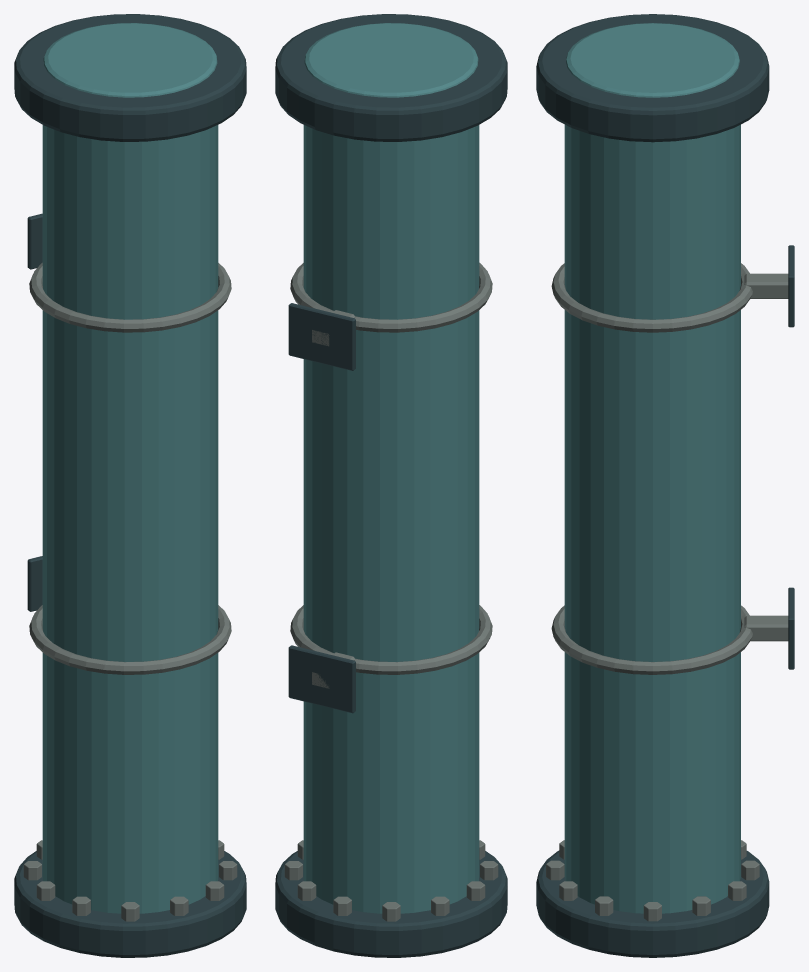
The model's file is pipe-riser.glb.
The picture shows the model from 3 angles, left to right: view 1: azimuth 30°, elevation 25°; view 2: azimuth 150°, elevation 25°; view 3: azimuth 270°, elevation 25°; orthographic projection.
Parts seen in each view (by area): view 1: pipe-riser__pipe-riser__petrol, pipe-riser__pipe-riser__steel, pipe-riser__pipe-riser__hardware; view 2: pipe-riser__pipe-riser__petrol, pipe-riser__pipe-riser__steel, pipe-riser__pipe-riser__hardware; view 3: pipe-riser__pipe-riser__petrol, pipe-riser__pipe-riser__steel, pipe-riser__pipe-riser__hardware.
Part boxes in pixels (x1,y1,x2,y2): pipe-riser__pipe-riser__petrol: [42, 23, 218, 913]; pipe-riser__pipe-riser__steel: [14, 14, 246, 957]; pipe-riser__pipe-riser__hardware: [23, 262, 237, 921]; pipe-riser__pipe-riser__petrol: [303, 23, 479, 913]; pipe-riser__pipe-riser__steel: [275, 14, 507, 957]; pipe-riser__pipe-riser__hardware: [284, 262, 498, 921]; pipe-riser__pipe-riser__petrol: [564, 23, 740, 913]; pipe-riser__pipe-riser__steel: [536, 14, 794, 957]; pipe-riser__pipe-riser__hardware: [546, 263, 788, 921].
Size of the model in its own units: 0.74 by 3 by 0.82.
